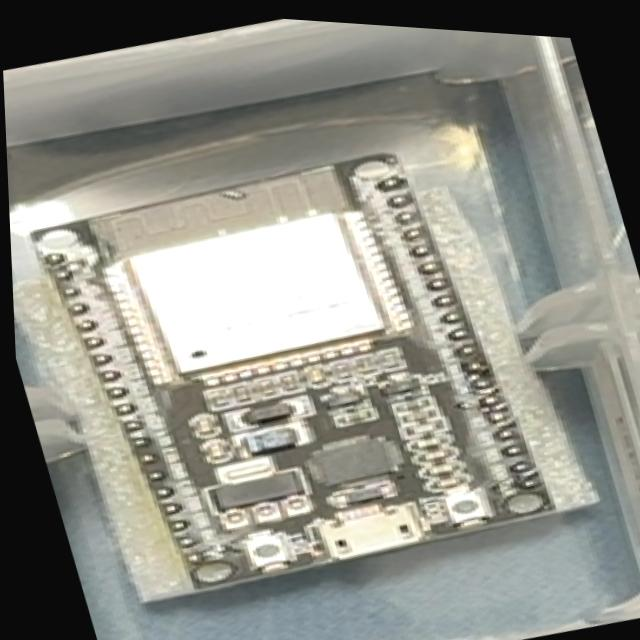ESP32: (16, 110, 565, 634)
